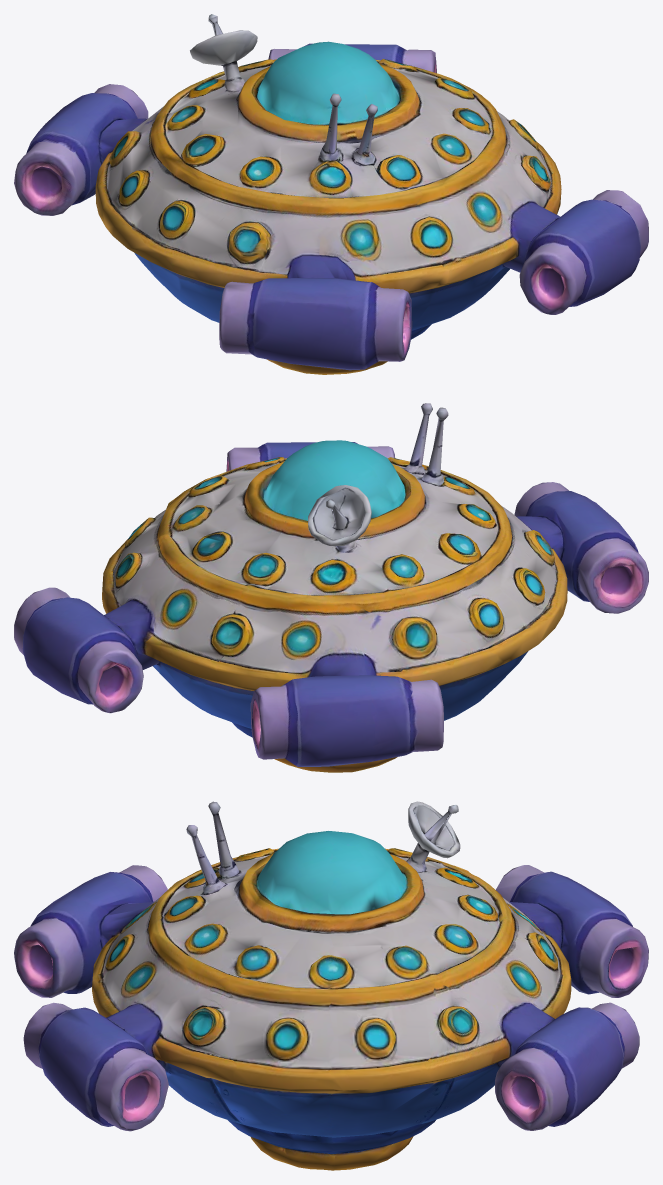
Rendered from cosmos-station-v2-lod-Bz9eHMNB.glb.
3 views of the same model, one above another, from view 1: azimuth 30°, elevation 25°; view 2: azimuth 150°, elevation 25°; view 3: azimuth 270°, elevation 25° (orthographic). The views are drawn at different scales.
Parts seen in each view (by area): view 1: tripo_node_65c19f38-bebb-4761-af9a-35cc7c37ed36; view 2: tripo_node_65c19f38-bebb-4761-af9a-35cc7c37ed36; view 3: tripo_node_65c19f38-bebb-4761-af9a-35cc7c37ed36.
Boxes of the visible parts, bbox=[...] form: tripo_node_65c19f38-bebb-4761-af9a-35cc7c37ed36: bbox=[14, 14, 648, 374]; tripo_node_65c19f38-bebb-4761-af9a-35cc7c37ed36: bbox=[14, 403, 648, 772]; tripo_node_65c19f38-bebb-4761-af9a-35cc7c37ed36: bbox=[14, 801, 648, 1170].
Size of the model in its own units: 0.792 by 0.5432 by 0.9987.
Materials: 1 (1 with a texture image).
